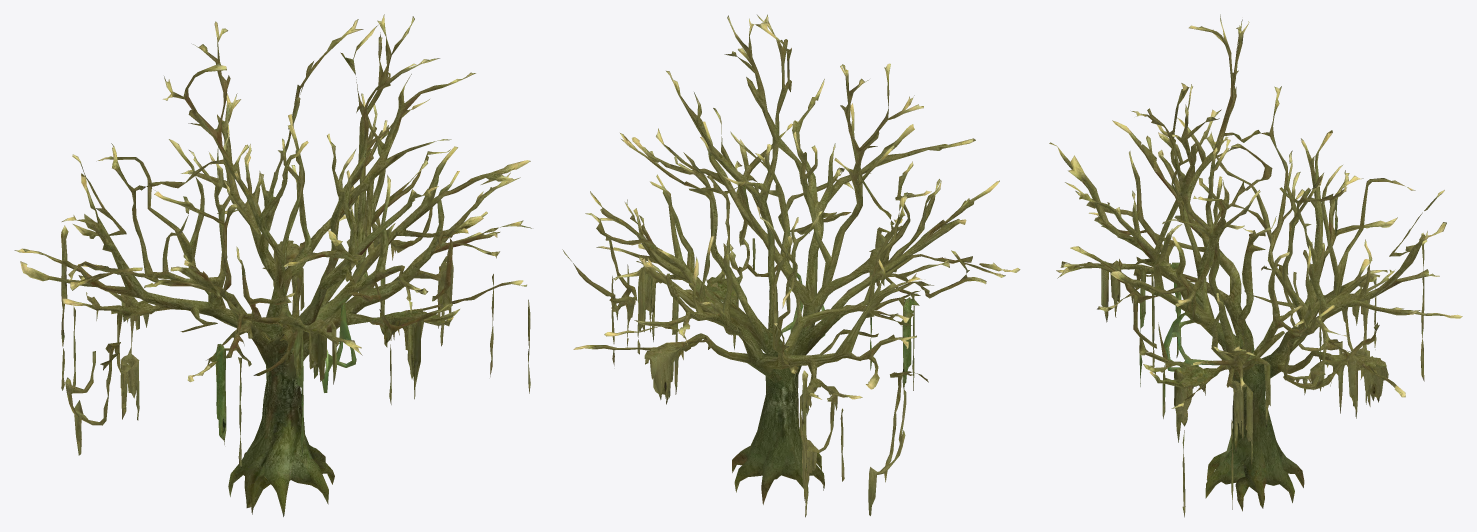
Rendered from deadtree.glb.
3 views of the same model, side by side, from view 1: azimuth 30°, elevation 25°; view 2: azimuth 150°, elevation 25°; view 3: azimuth 270°, elevation 25° (orthographic). The views are drawn at different scales.
Visible parts, largest first — view 1: Mesh_0; view 2: Mesh_0; view 3: Mesh_0.
Boxes of the visible parts, x1,y1,x2,y2 form: Mesh_0: [14, 14, 531, 516]; Mesh_0: [562, 14, 1020, 517]; Mesh_0: [1049, 14, 1462, 517].
Bounding box in the file's own units: 1.58 × 1.63 × 1.37.
Materials: 1 (1 with a texture image).
